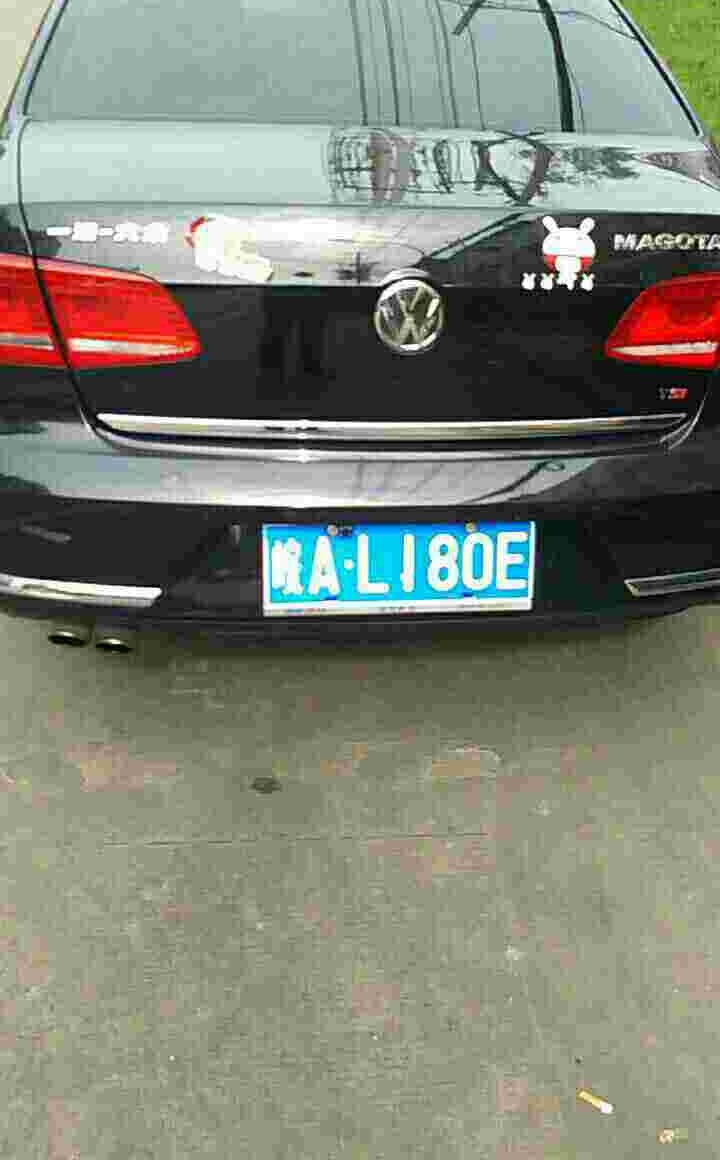license_plate: (272, 519, 548, 606)
